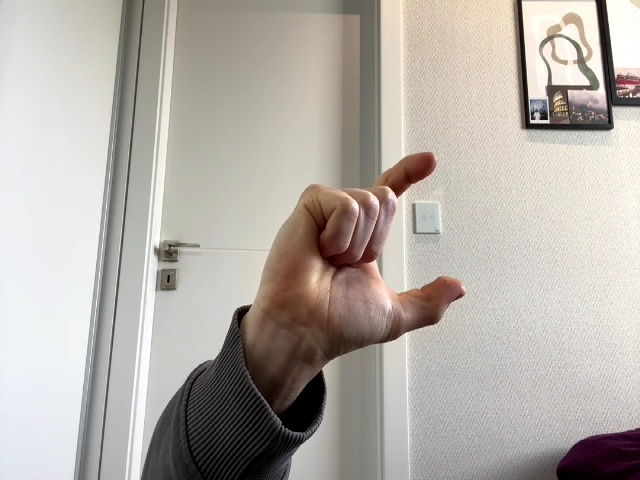C: (259, 153, 466, 365)
